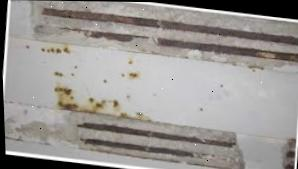exposed_rebar: (42, 7, 298, 45), (77, 122, 236, 147), (158, 39, 298, 61), (83, 138, 194, 157), (62, 27, 148, 41), (286, 151, 295, 157), (286, 163, 294, 169)
spalling: (33, 0, 298, 67), (22, 111, 244, 169), (283, 139, 296, 169)
